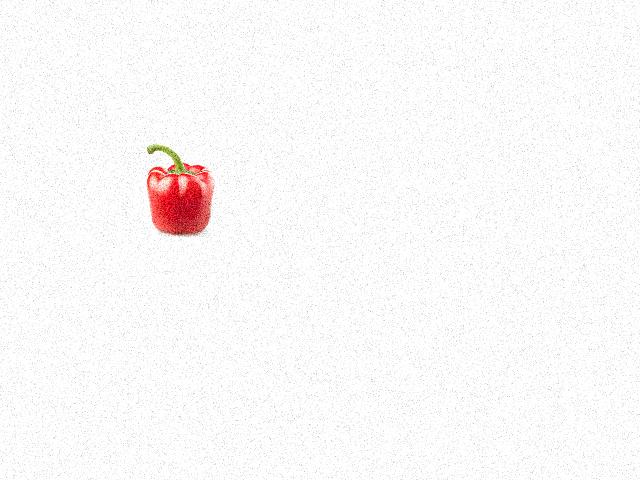bell_pepper: (144, 143, 212, 235)
